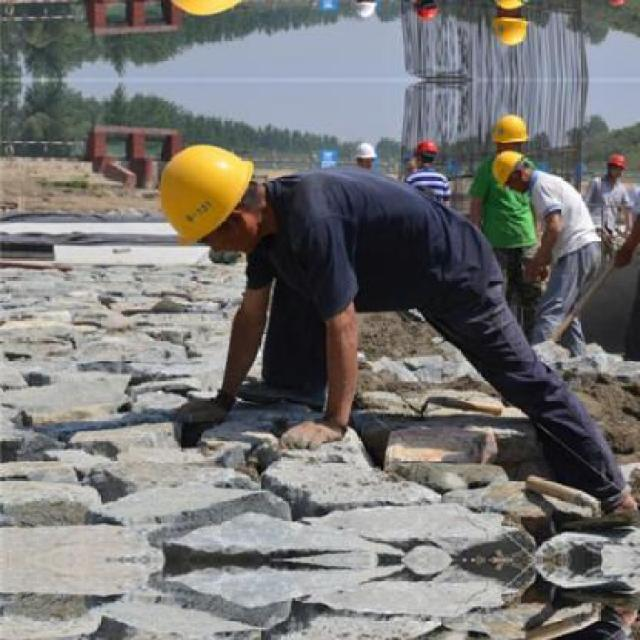helmet: (148, 137, 267, 254), (148, 0, 268, 25), (488, 0, 532, 51), (488, 110, 530, 161), (487, 149, 531, 193), (408, 136, 438, 169), (351, 140, 378, 174), (408, 0, 438, 25), (351, 0, 380, 22), (605, 150, 626, 179), (486, 0, 532, 12), (604, 0, 628, 11)
